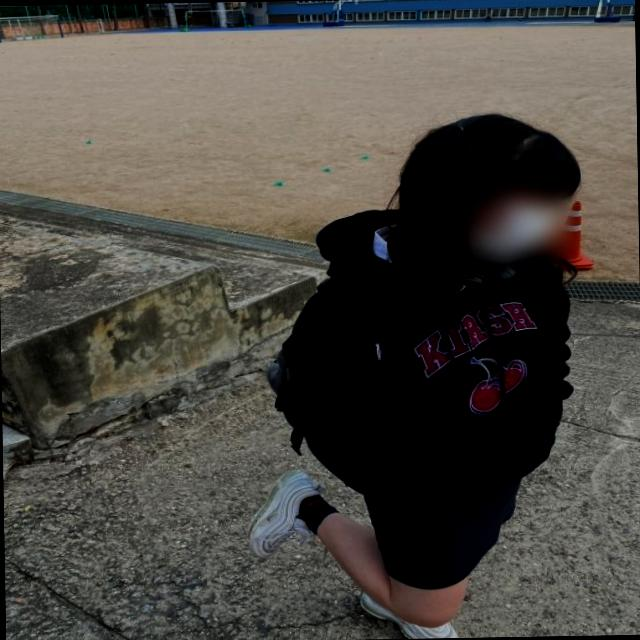hoodies: (282, 211, 578, 514)
skirt: (256, 458, 530, 600)
